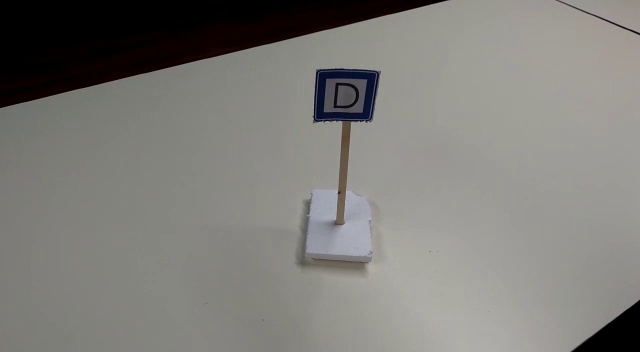durak: (314, 70, 377, 120)
